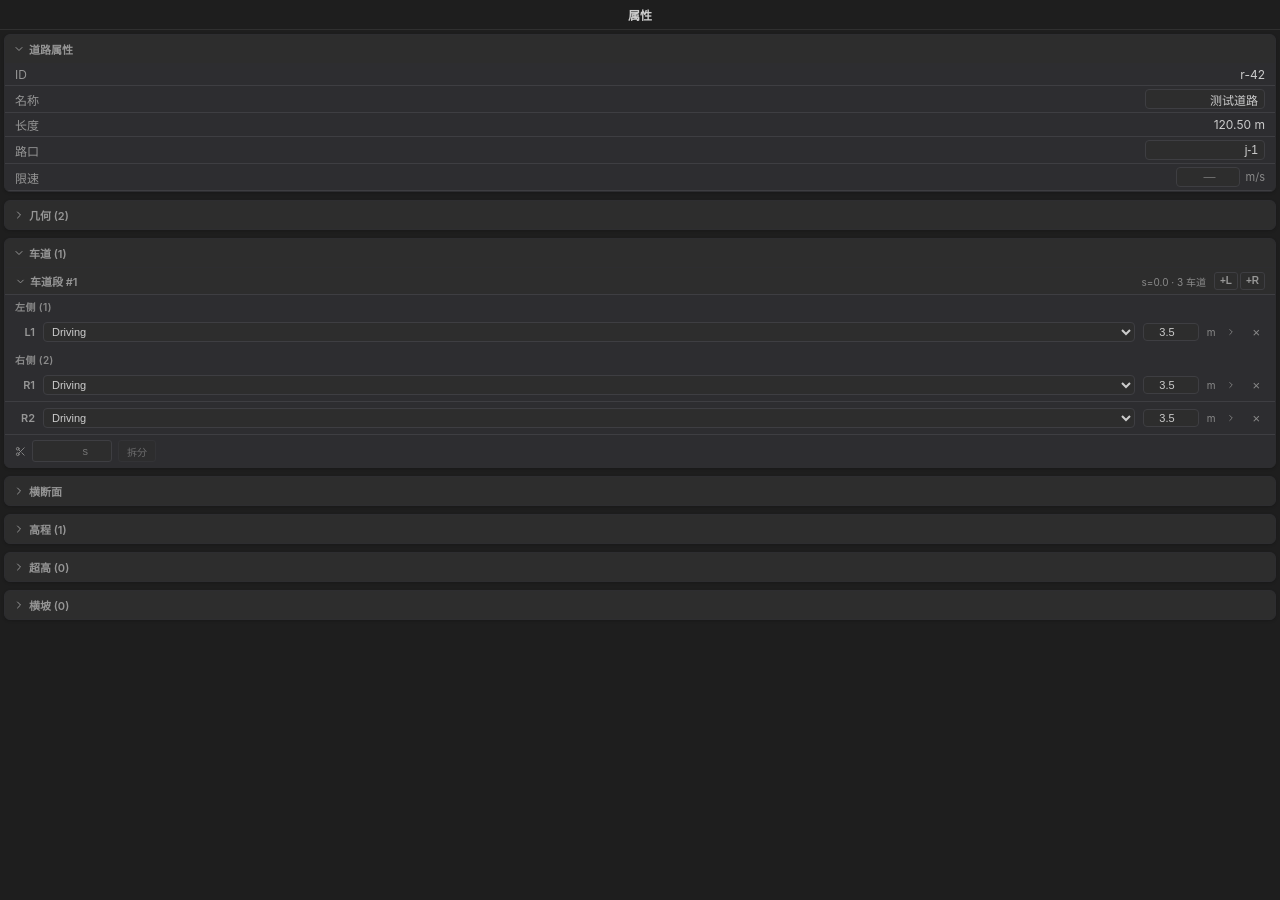
Test: PropertyPanel › shows elevation editor actions when elevation card is expanded
Click the text "高程 (1)".
click(48, 529)  # box [29,521,67,537]
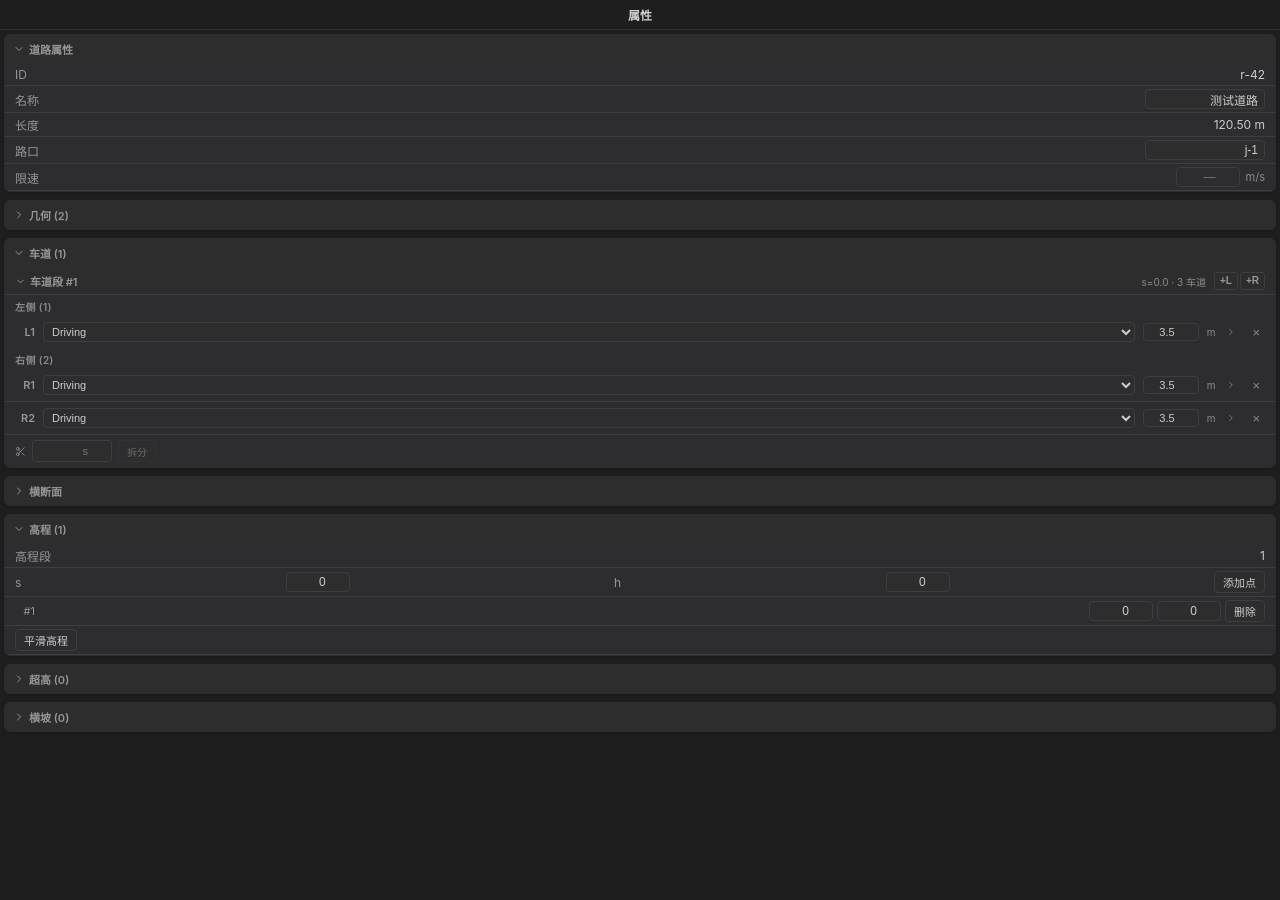
Result: the button "添加点" is shown at [1214,571,1265,593]
Result: the button "平滑高程" is shown at [15,629,77,651]
